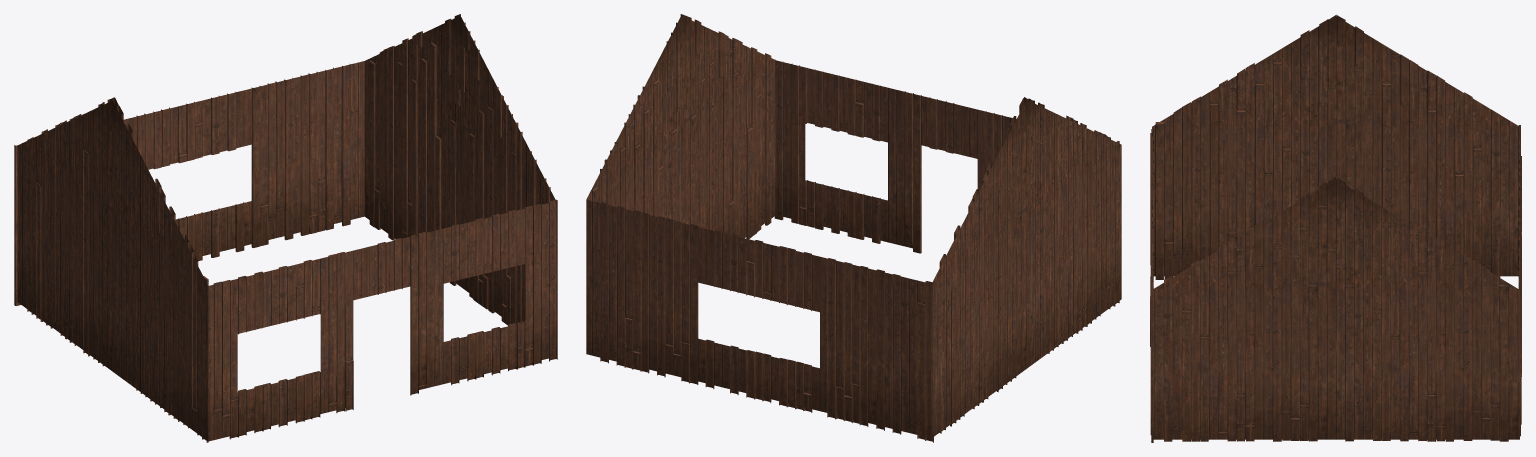
The model's file is cabinWallsInterior_01_LOD0.FBX.
The picture shows the model from 3 angles, left to right: view 1: azimuth 30°, elevation 25°; view 2: azimuth 150°, elevation 25°; view 3: azimuth 270°, elevation 25°; orthographic projection. The views are drawn at different scales.
Parts seen in each view (by area): view 1: cabinWallsInterior_01_LOD0; view 2: cabinWallsInterior_01_LOD0; view 3: cabinWallsInterior_01_LOD0.
Boxes of the visible parts, x1,y1,x2,y2 form: cabinWallsInterior_01_LOD0: (14,14,557,442); cabinWallsInterior_01_LOD0: (586,14,1121,442); cabinWallsInterior_01_LOD0: (1150,14,1521,442).
Bounding box in the file's own units: 40.88 × 30.84 × 38.99.
Materials: 1 (1 with a texture image).
